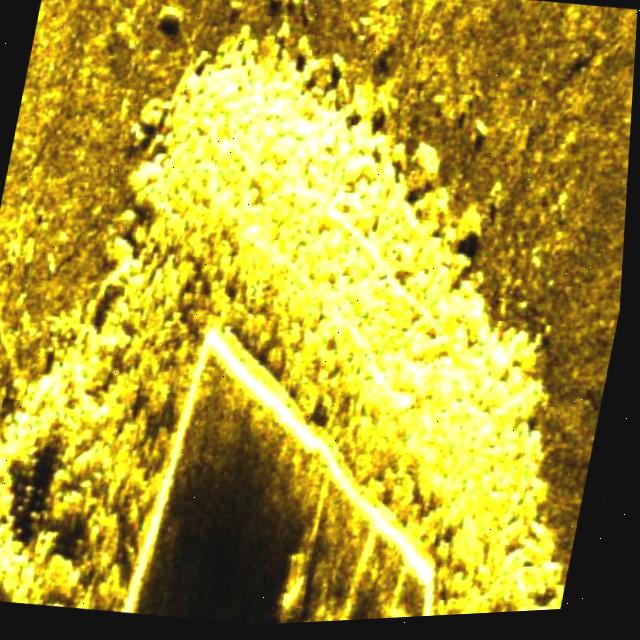bedrock group: (0, 2, 639, 640)
